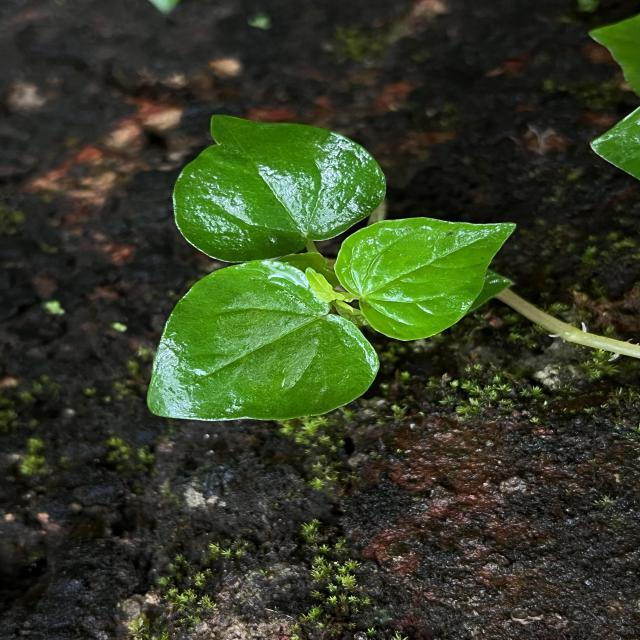Peperomia pellucida: (142, 256, 387, 426), (170, 110, 390, 266), (331, 214, 520, 344)
